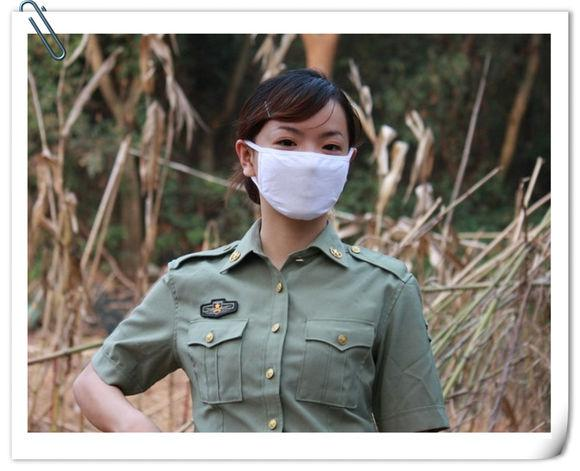OK: (251, 113, 353, 215)
